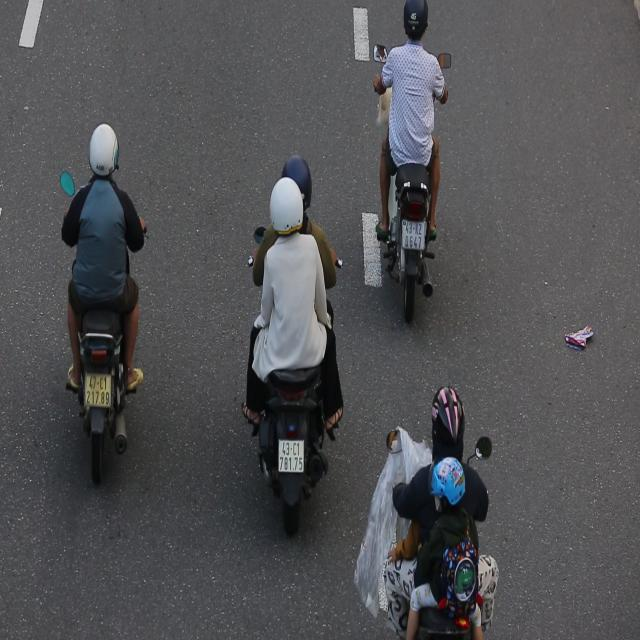motorbike: (240, 148, 350, 546), (54, 115, 149, 490), (370, 0, 458, 333)
